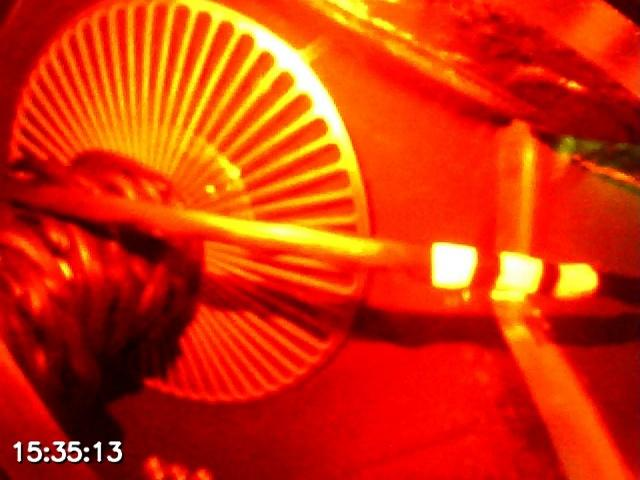white-dots: (430, 241, 598, 303)
